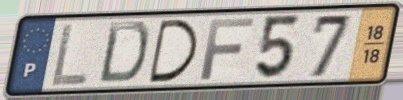5: (254, 12, 304, 82)
7: (310, 13, 352, 80)
D: (96, 20, 152, 86), (147, 18, 201, 86)
F: (198, 16, 258, 82)
L: (48, 20, 91, 88)
